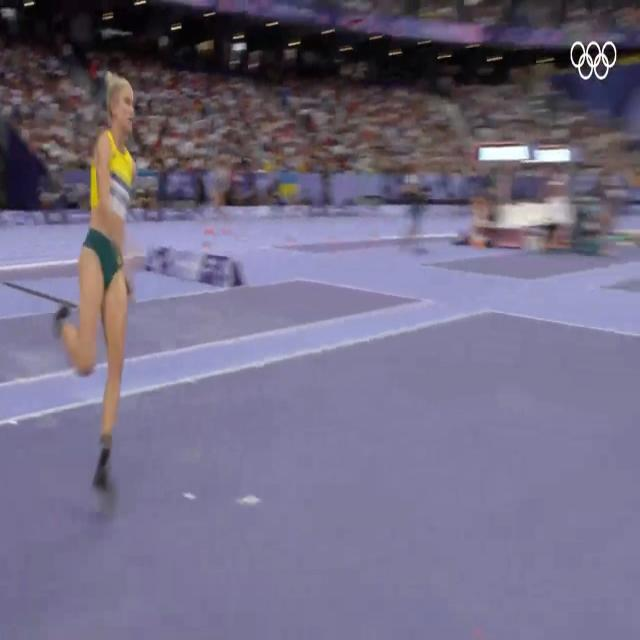run: (33, 67, 159, 471)
